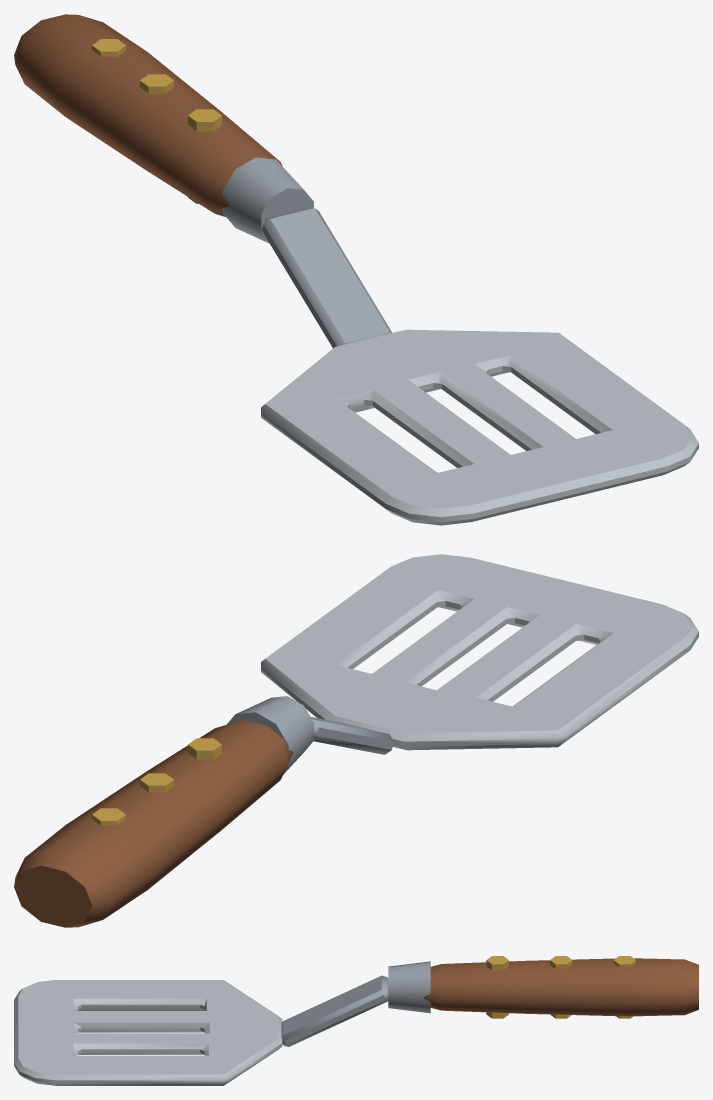
File: Kitchen_Spatula.fbx
The picture shows the model from 3 angles, top to bottom: view 1: azimuth 30°, elevation 25°; view 2: azimuth 150°, elevation 25°; view 3: azimuth 270°, elevation 25°; orthographic projection. The views are drawn at different scales.
Visible parts, largest first — view 1: Blade, Handle, Shank, Rivets; view 2: Blade, Handle, Shank, Rivets; view 3: Blade, Handle, Shank, Rivets.
Boxes of the visible parts, x1,y1,x2,y2 form: Blade: (261, 329, 698, 525); Handle: (14, 14, 282, 216); Shank: (222, 157, 392, 348); Rivets: (92, 39, 221, 203); Blade: (261, 554, 698, 750); Handle: (14, 720, 293, 927); Shank: (227, 696, 393, 774); Rivets: (92, 738, 221, 825); Blade: (14, 980, 282, 1085); Handle: (423, 958, 698, 1016); Shank: (281, 961, 430, 1046); Rivets: (486, 956, 635, 1018).
Bounding box in the file's own units: 66 × 24.96 × 194.
